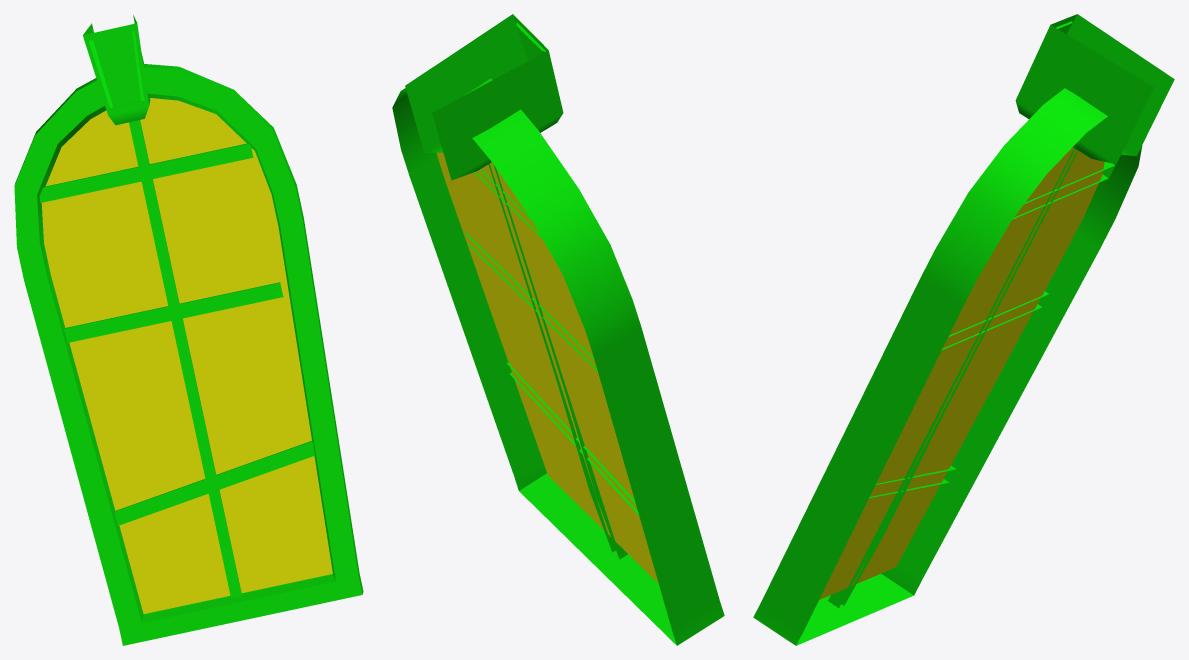
Rendered from window.fbx.
3 views of the same model, side by side, from view 1: azimuth 30°, elevation 25°; view 2: azimuth 150°, elevation 25°; view 3: azimuth 270°, elevation 25° (orthographic). The views are drawn at different scales.
Visible parts, largest first — view 1: wind; view 2: wind; view 3: wind.
Part boxes in pixels (x1,y1,x2,y2): wind: [14, 15, 363, 645]; wind: [392, 14, 724, 645]; wind: [753, 14, 1174, 645].
Size of the model in its own units: 0.0101 by 0.0227 by 0.0142.
